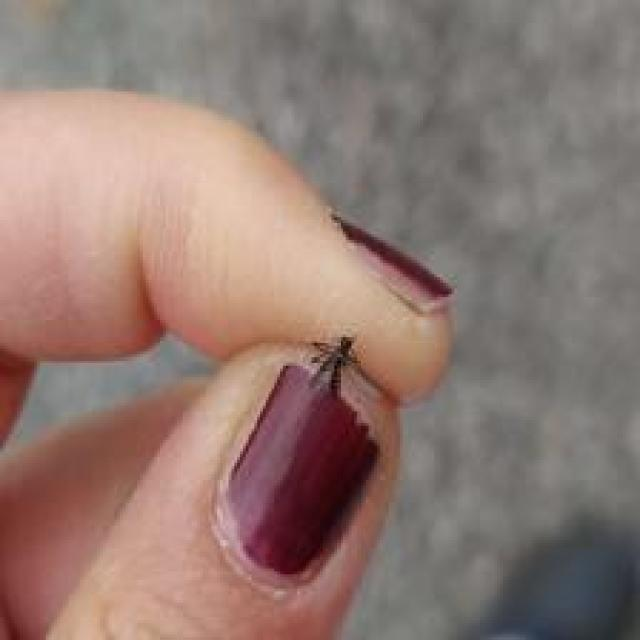Aedes albopictus: (307, 333, 362, 398)
